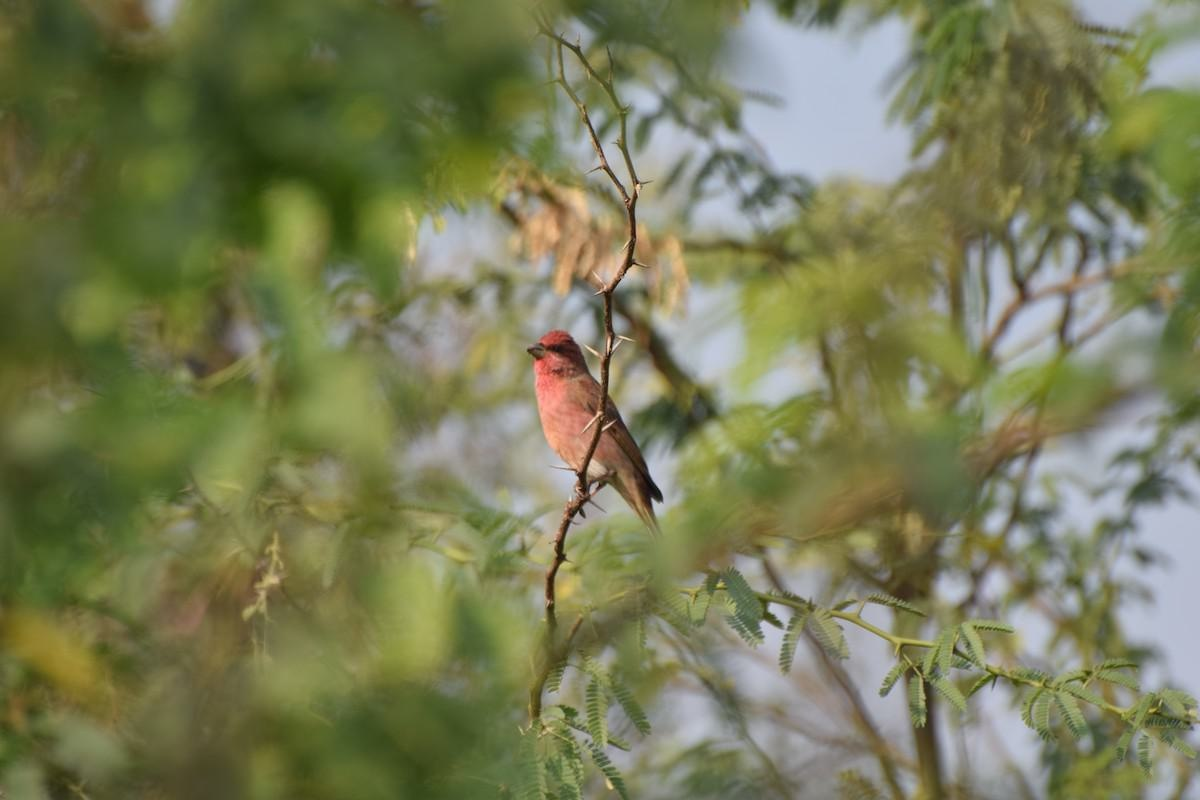rosefinch: (508, 334, 673, 554)
